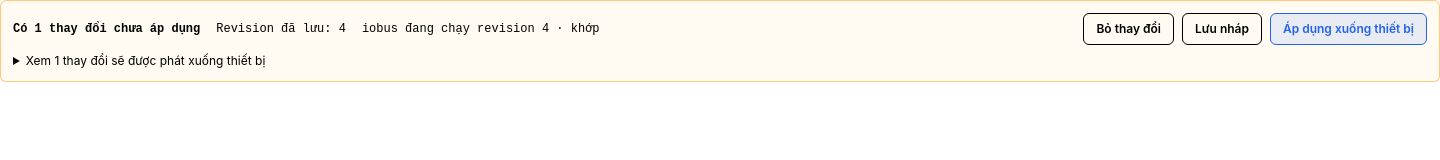
Test: ConfigStateBanner › nói rõ khi phải restart dịch vụ thay vì áp tại ranh giới transaction
What coordinates should you click on to do the following:
click the button with test id "apply-config"
I would click on:
 (1348, 29)
Its box is [1270,13,1427,45].
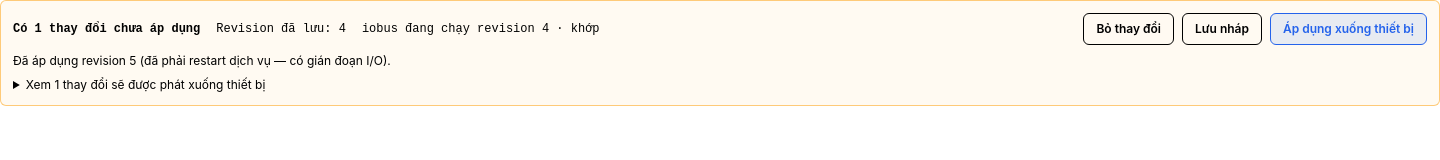
Expected: the text "Đã áp dụng revision 5 (đã phải restart dịch vụ — có gián đoạn I/O)." is shown, [13,53,391,68]
